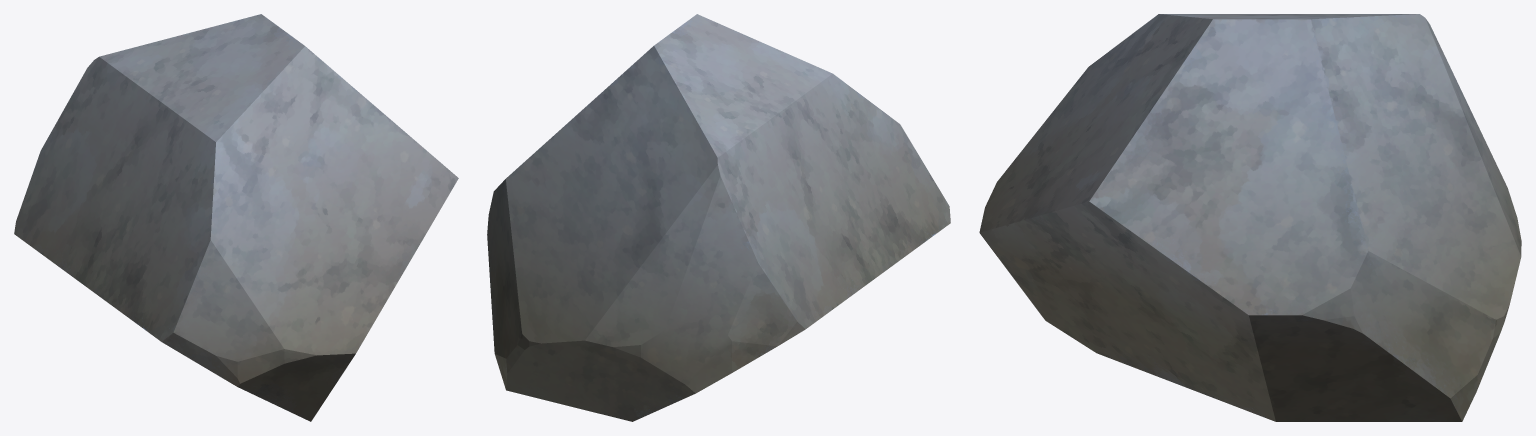
Rendered from Rock_1.fbx.
3 renders of one model, left to right at view 1: azimuth 30°, elevation 25°; view 2: azimuth 150°, elevation 25°; view 3: azimuth 270°, elevation 25°, orthographic. The views are drawn at different scales.
Parts seen in each view (by area): view 1: Rock_1_Low; view 2: Rock_1_Low; view 3: Rock_1_Low.
Boxes of the visible parts, x1,y1,x2,y2 form: Rock_1_Low: (14, 14, 458, 421); Rock_1_Low: (487, 14, 950, 421); Rock_1_Low: (979, 14, 1521, 421).
Size of the model in its own units: 1.73 by 1.48 by 2.02.
